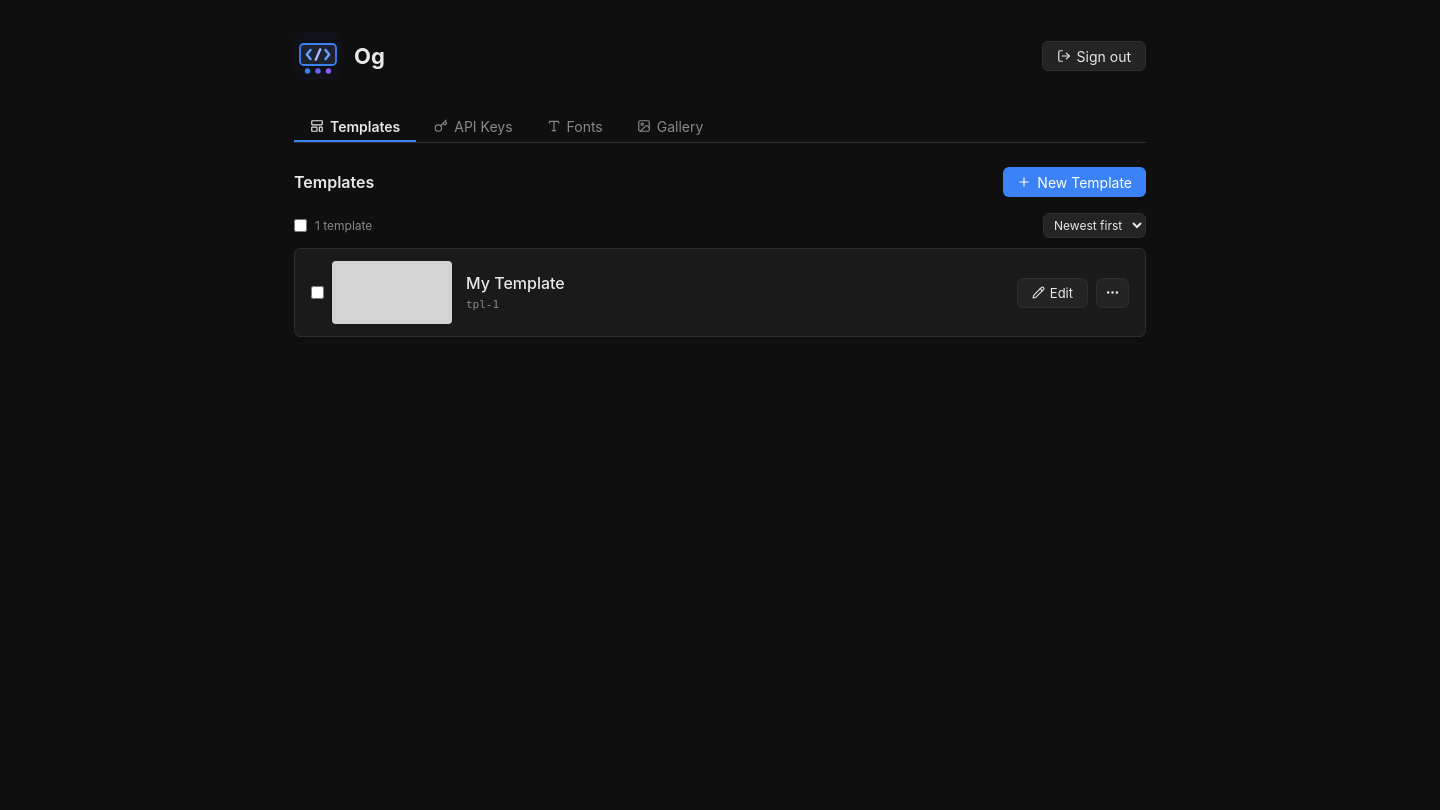
dashboard page › deletes a template when confirmed
The width and height of the screenshot is (1440, 810).
What coordinates should you click on to do the following:
click the element with test id "template-actions-tpl-1"
I would click on:
 (1112, 292)
Its box is [1096, 278, 1129, 308].
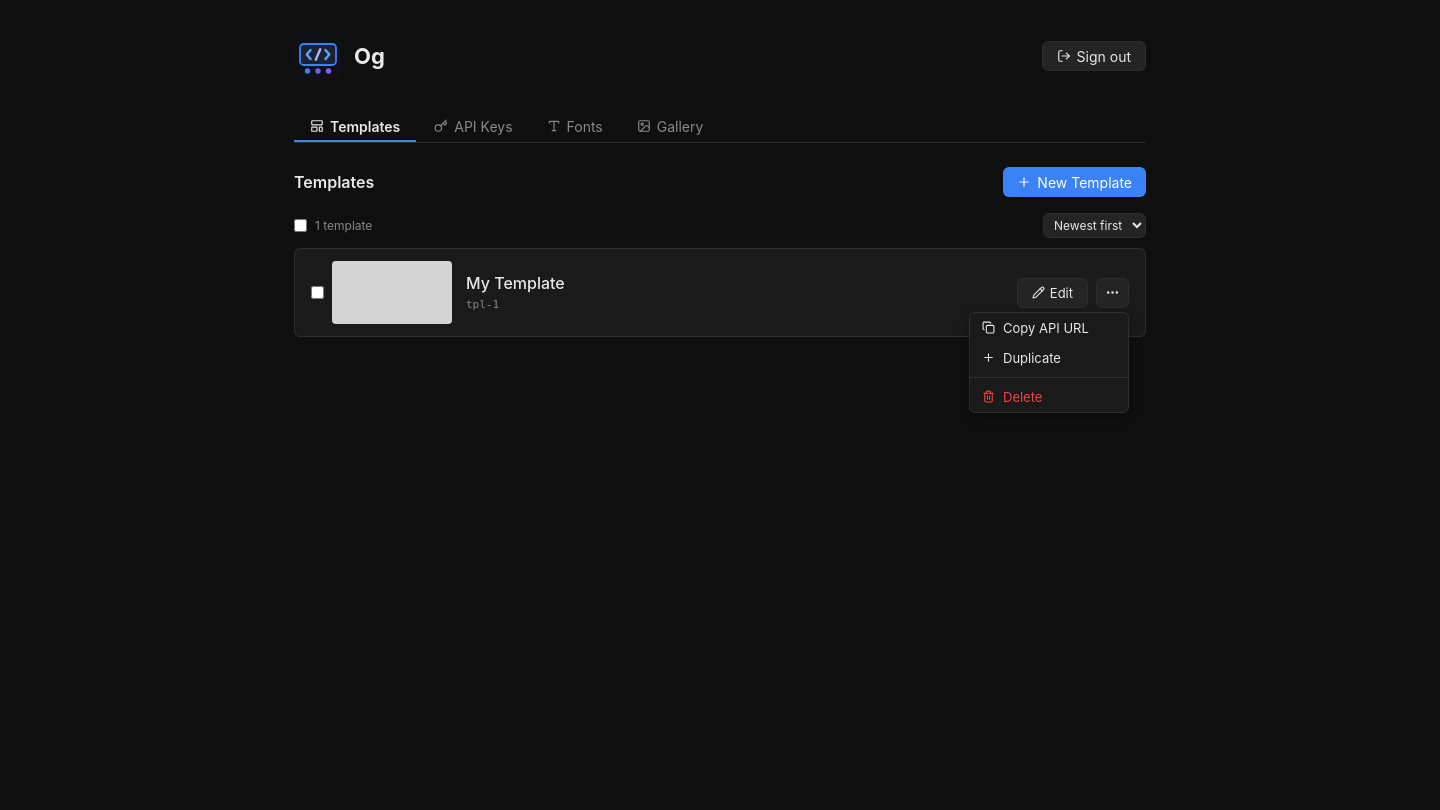
Expected: the button with test id "delete-template-tpl-1" is shown
What coordinates should you click on to do the following:
click the button with test id "delete-template-tpl-1"
I would click on:
 (1049, 396)
Its box is [970, 382, 1128, 412].
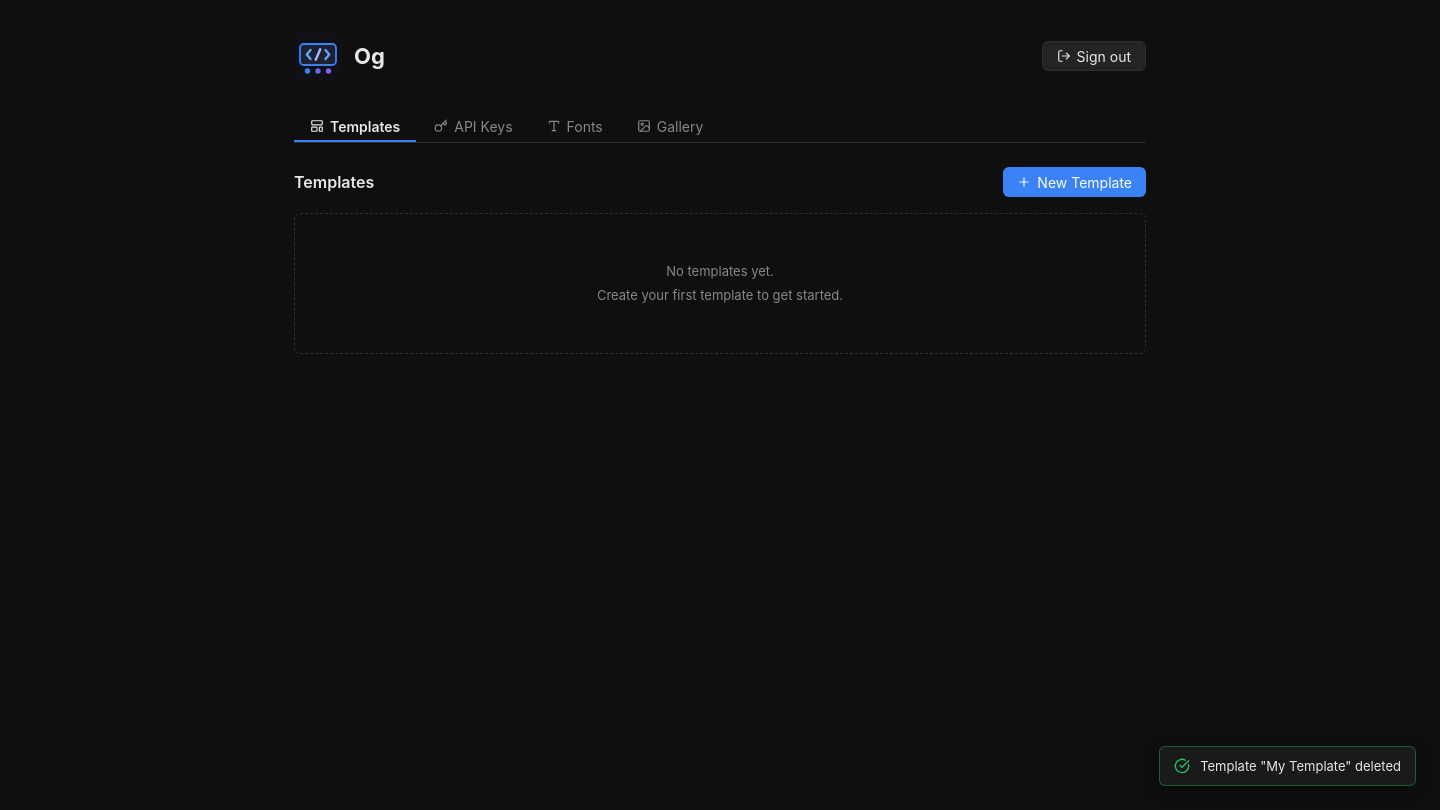
Expected: the element with test id "template-item-tpl-1" is gone
